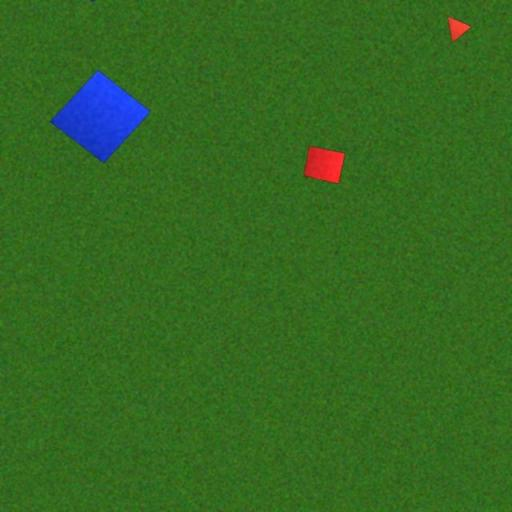BLUE_SQUARE: (50, 70, 151, 164)
RED_SQUARE: (303, 145, 346, 185)
